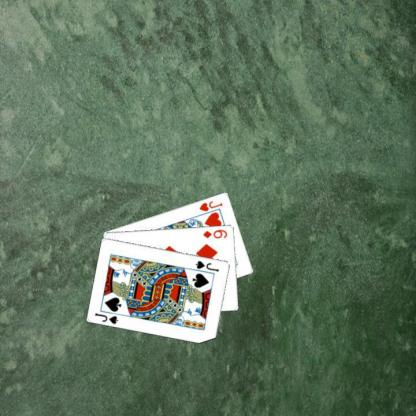6D: (200, 227, 229, 239)
JH: (197, 198, 224, 212)
JS: (92, 310, 119, 325), (193, 258, 220, 272)
